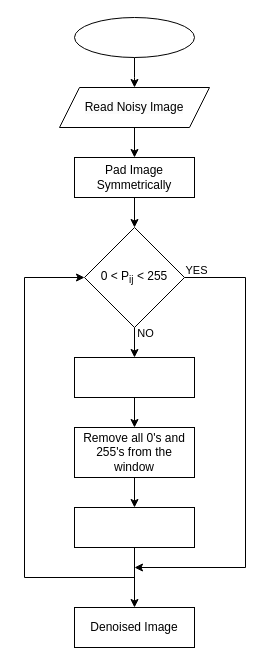
The diagram is 271 pixels wide and 665 high, and some of its shapes have lost their labels. The centre of each missing label's shape, as x and y in pixels:
"Find Min/Max" belongs at point 134,527.
"Select a 3x3 Window around it" belongs at point 134,377.
"START" belongs at point 134,37.
